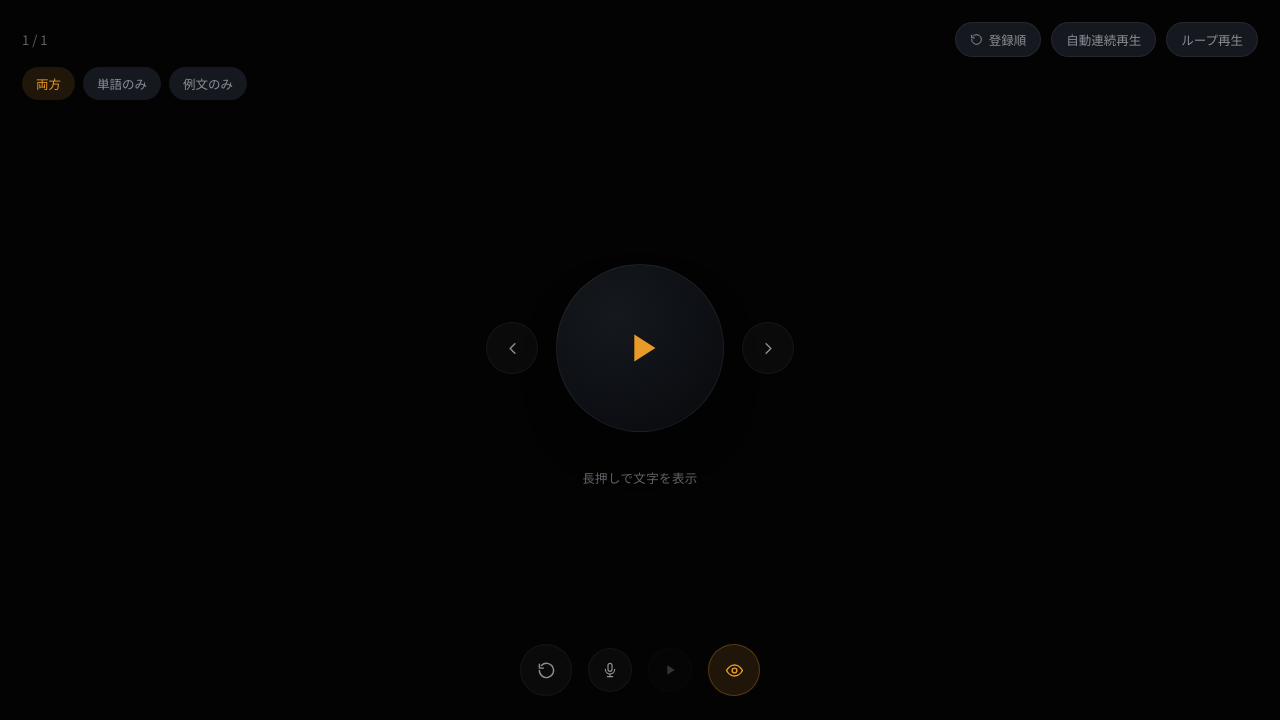
Scenario: recording (聞く画面) › recording then stopping enables playback of the take
Check: the button named "録音を再生" is disabled, box [648,648,692,692]
Click the button named "発音を録音": {"x": 610, "y": 670} [588,648,632,692]
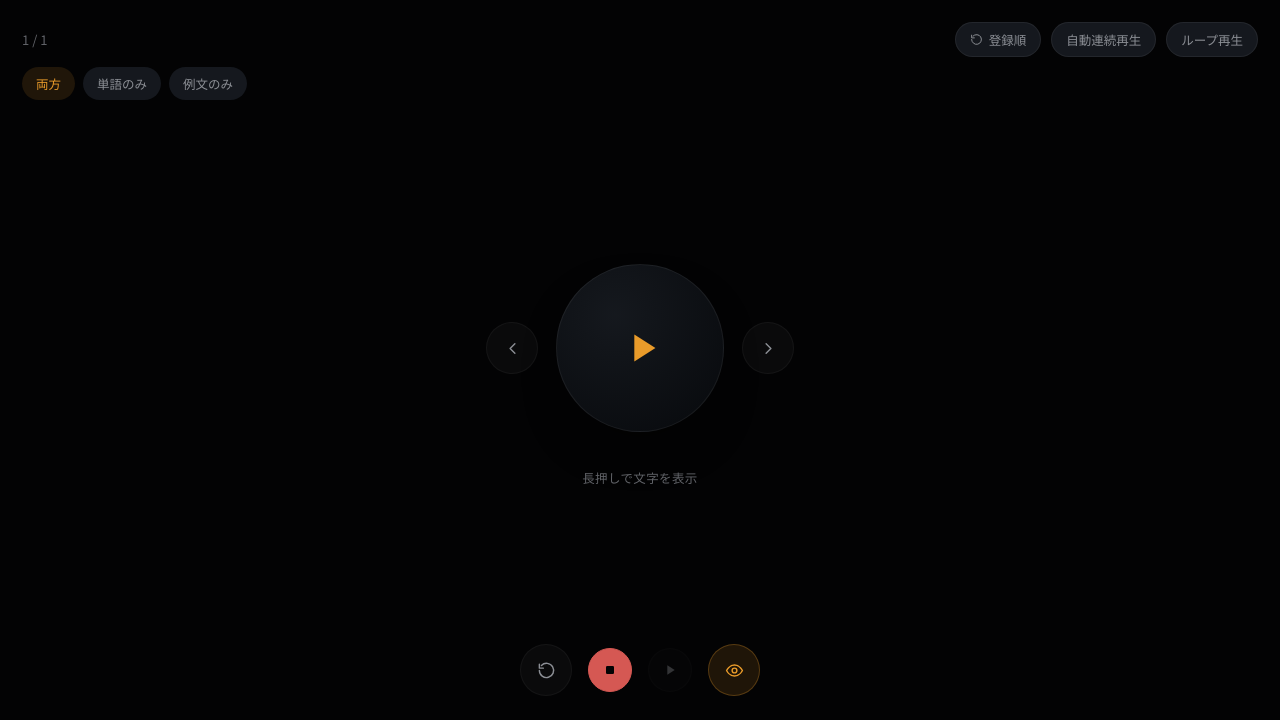
Check: the button named "録音を停止" is shown
Click the button named "録音を停止": {"x": 610, "y": 670} [588,648,632,692]
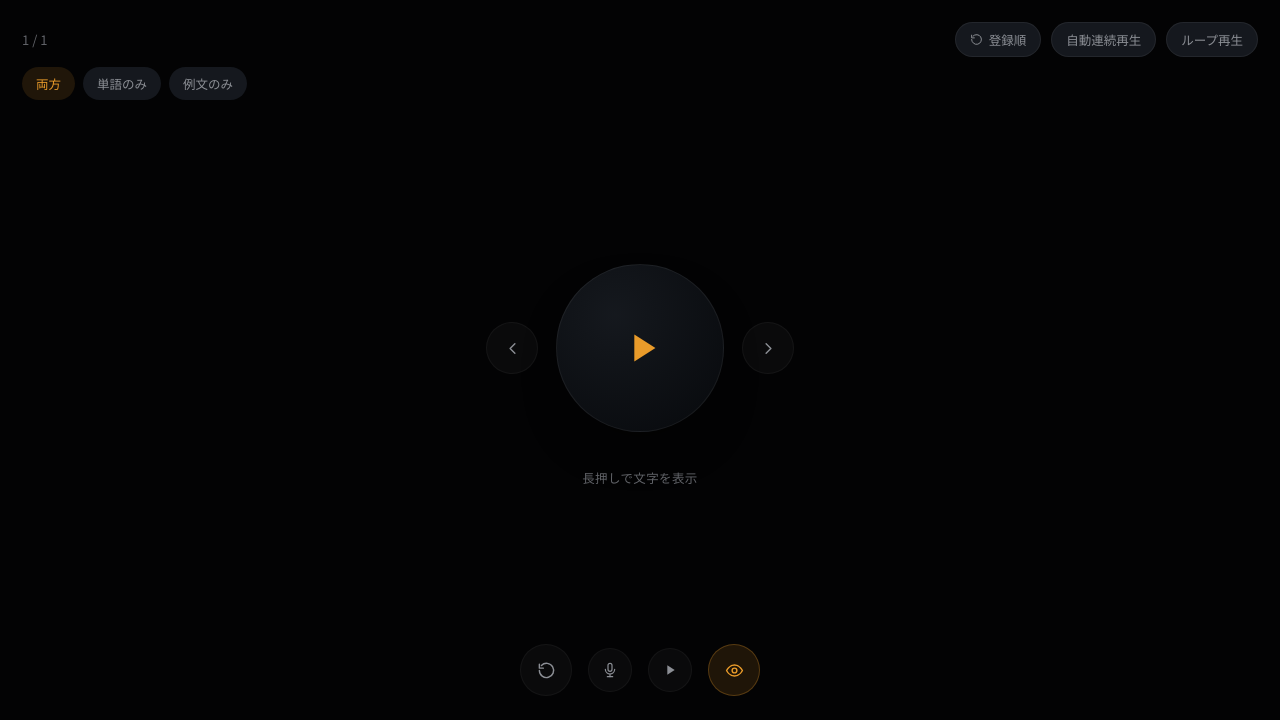
Check: the button named "録音を再生" is enabled, box [648,648,692,692]
